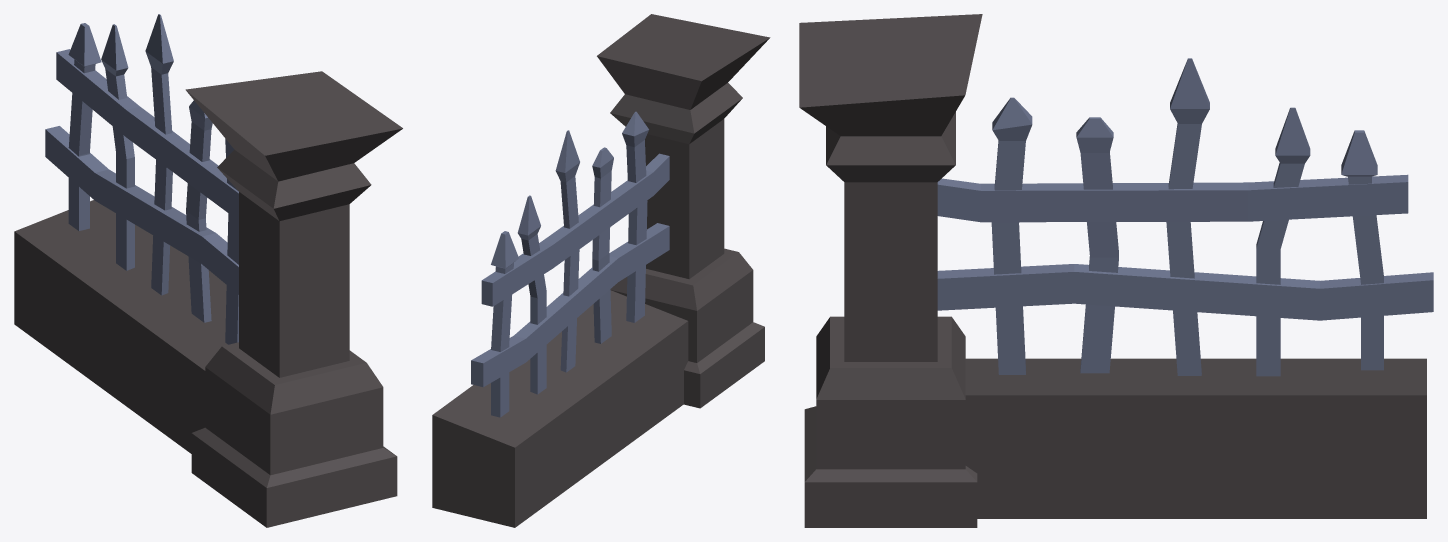
The model's file is HalloweenFence.fbx.
3 views of the same model, side by side, from view 1: azimuth 30°, elevation 25°; view 2: azimuth 150°, elevation 25°; view 3: azimuth 270°, elevation 25° (orthographic). The views are drawn at different scales.
Parts seen in each view (by area): view 1: HalloweenFence; view 2: HalloweenFence; view 3: HalloweenFence.
Part boxes in pixels (left/top/right/bottom): HalloweenFence: left=14, top=14, right=402, bottom=527; HalloweenFence: left=432, top=14, right=770, bottom=527; HalloweenFence: left=799, top=14, right=1433, bottom=527.
Bounding box in the file's own units: 125 × 331 × 434.
